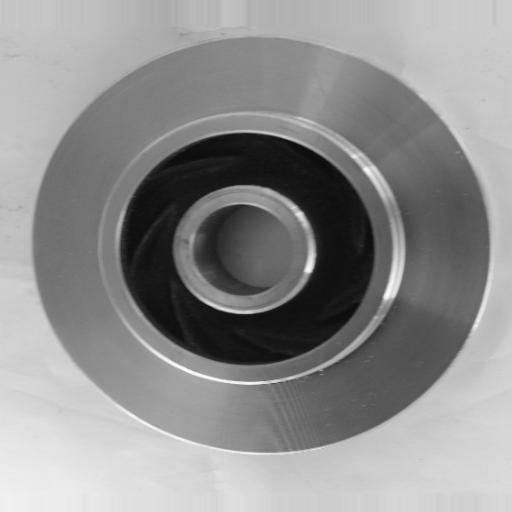polished_casting: (30, 34, 495, 457)
